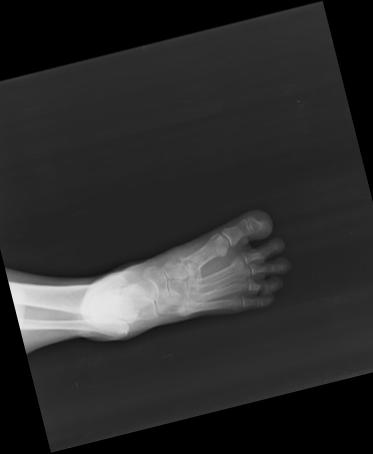fractured: (177, 246, 210, 279)
